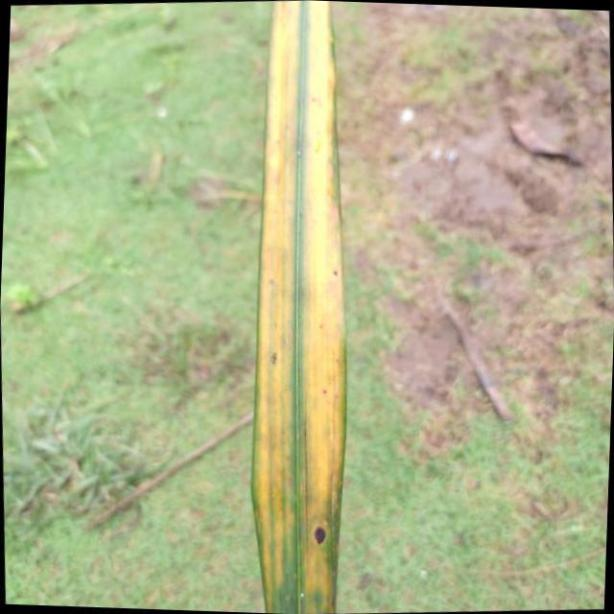Megnesium: (246, 0, 349, 614)
